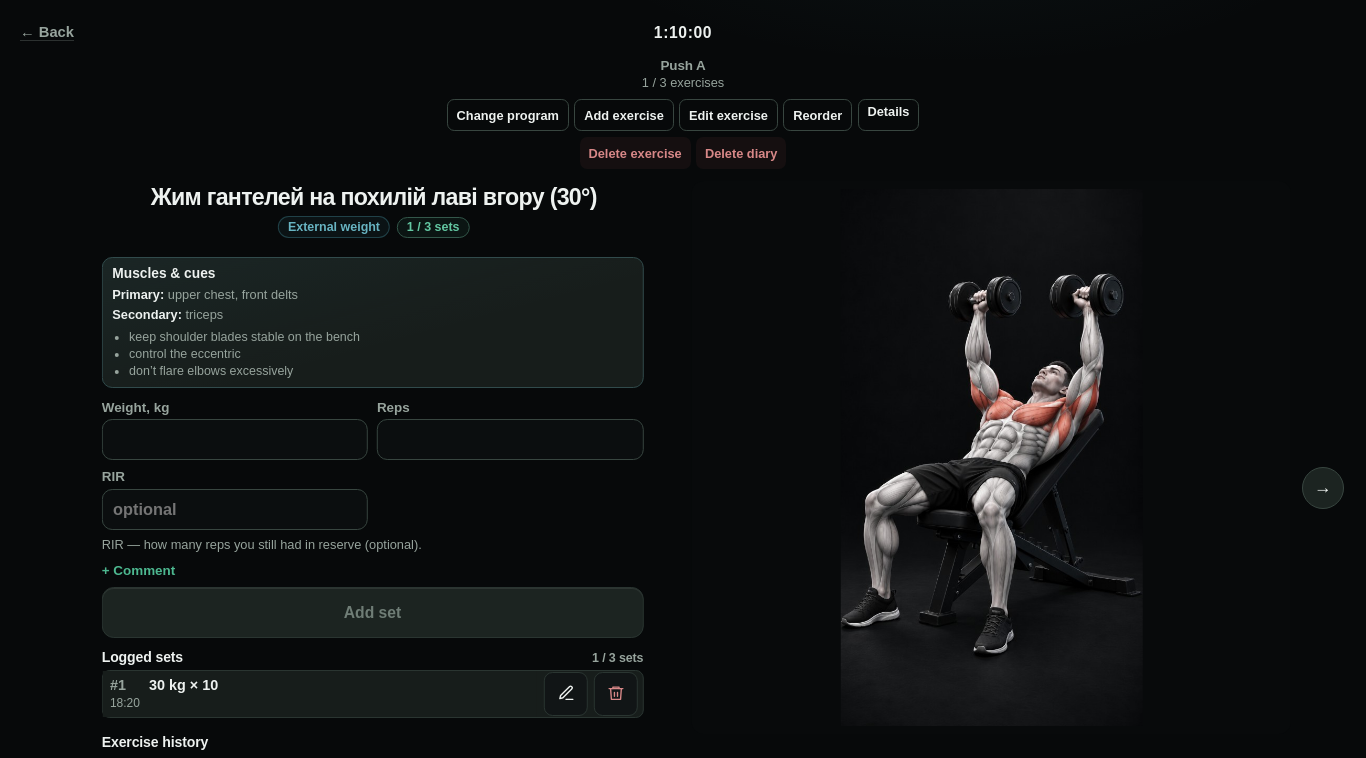
Test: Session edit exercise pager › immediately reflects a committed edit after a postcommit-error response without retrying
The image size is (1366, 758).
Click the button named "Edit set 1" at (566, 694), box x1=544 y1=672 x2=588 y2=716
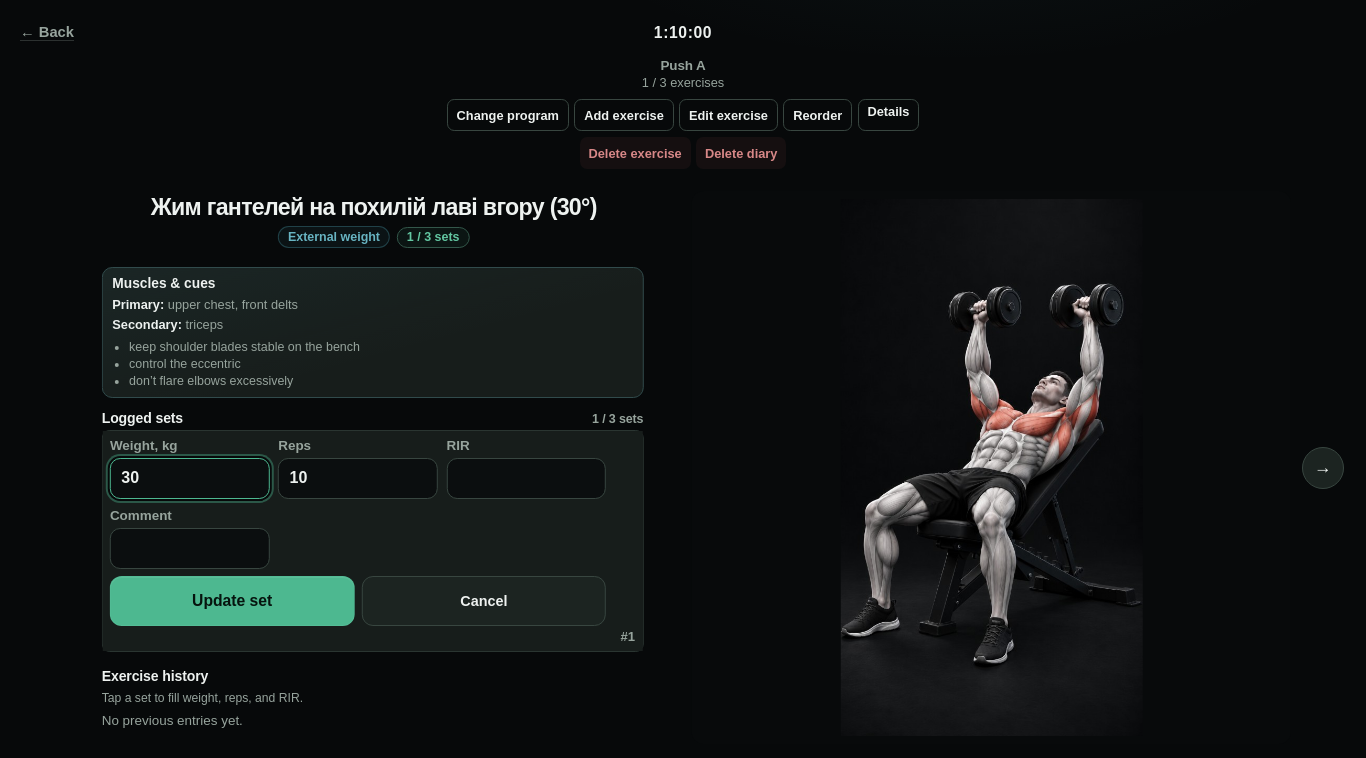
Replace the text in the field labelled "Reps" with "11" at (358, 479), box x1=279 y1=458 x2=438 y2=500
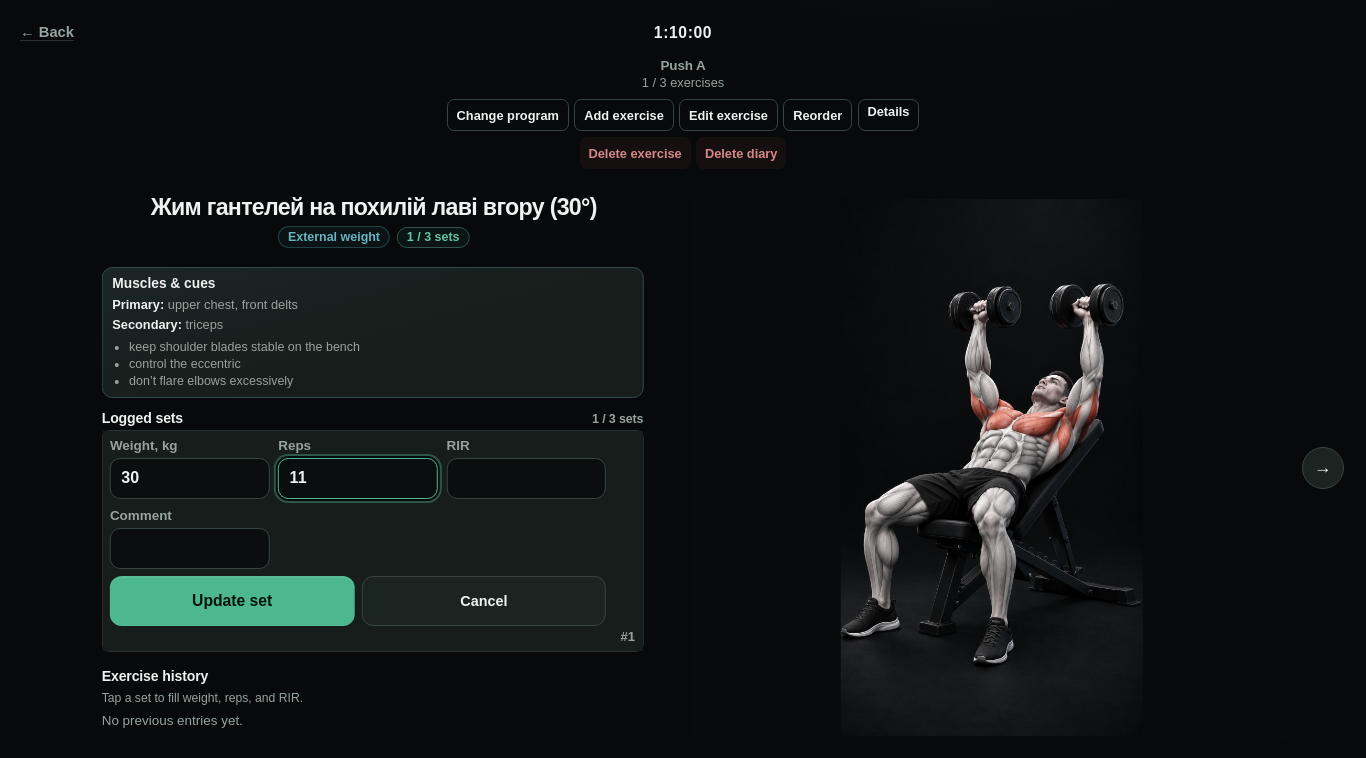
Click the button "Update set" at (233, 601), box x1=110 y1=576 x2=355 y2=626
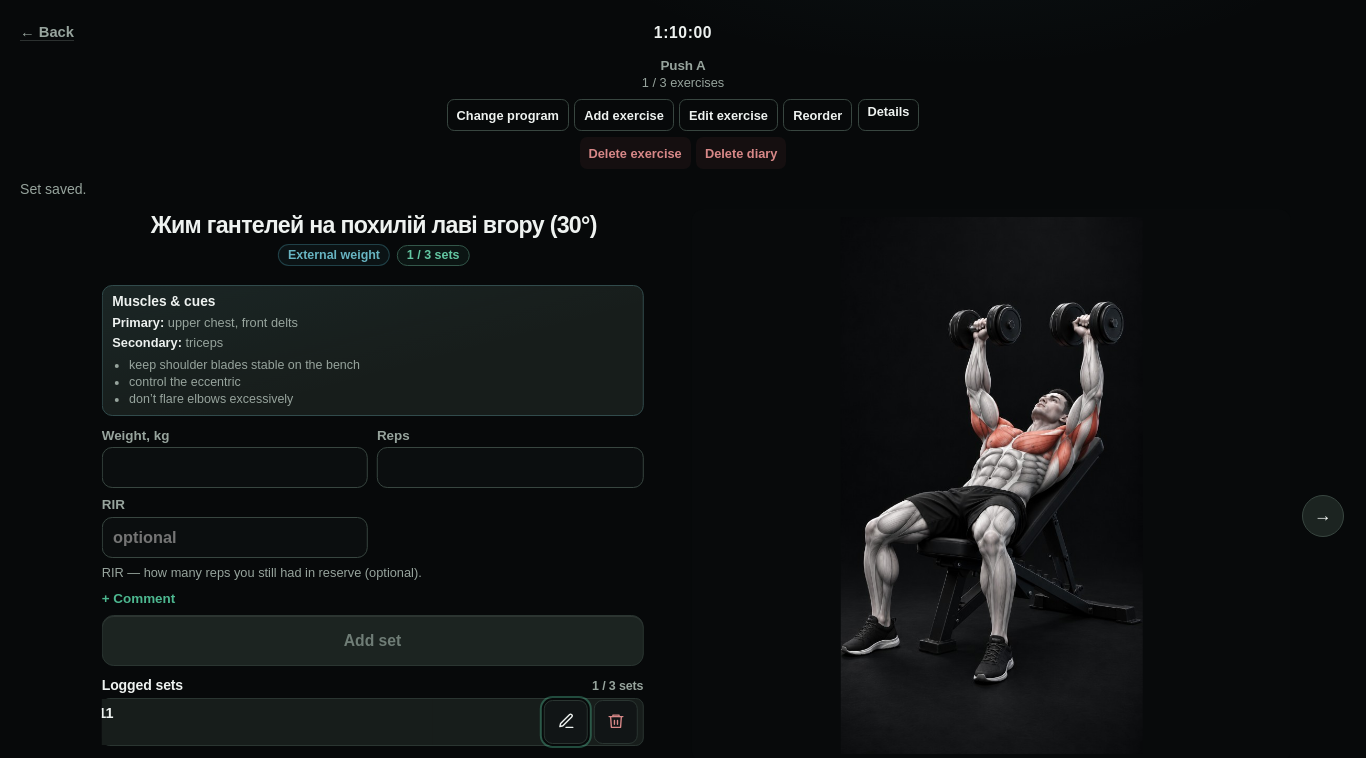
expect the button "Update set" is gone: met
